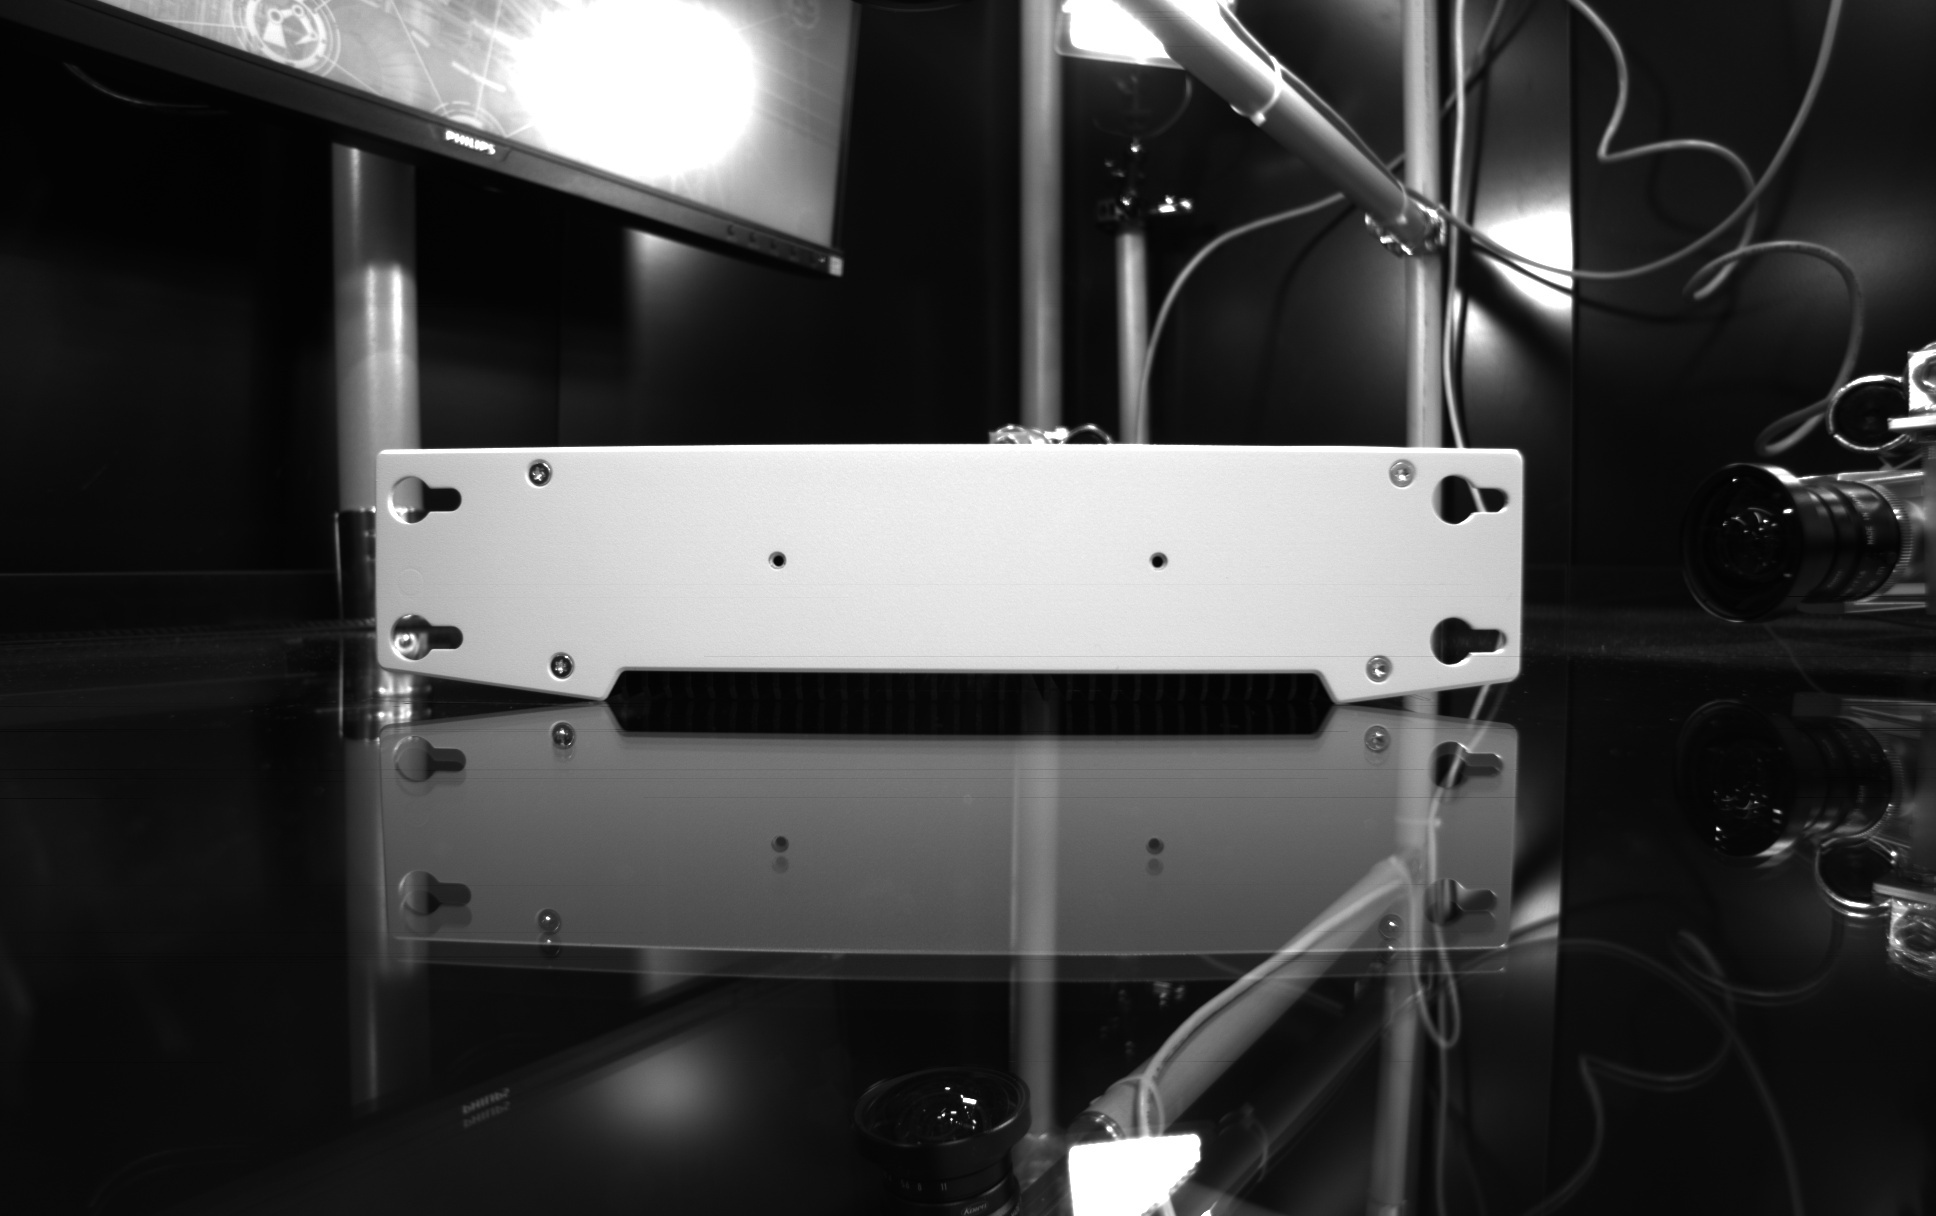CamBack: (352, 424, 1551, 705)
Schraube: (518, 452, 558, 493), (1360, 649, 1399, 689), (544, 646, 581, 686), (1383, 452, 1420, 492)
Schraube_gespiegelt: (537, 717, 588, 772), (1370, 908, 1411, 976), (530, 899, 567, 965), (1355, 717, 1397, 776)
